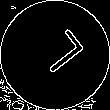L_SW: (26, 28, 84, 82)
